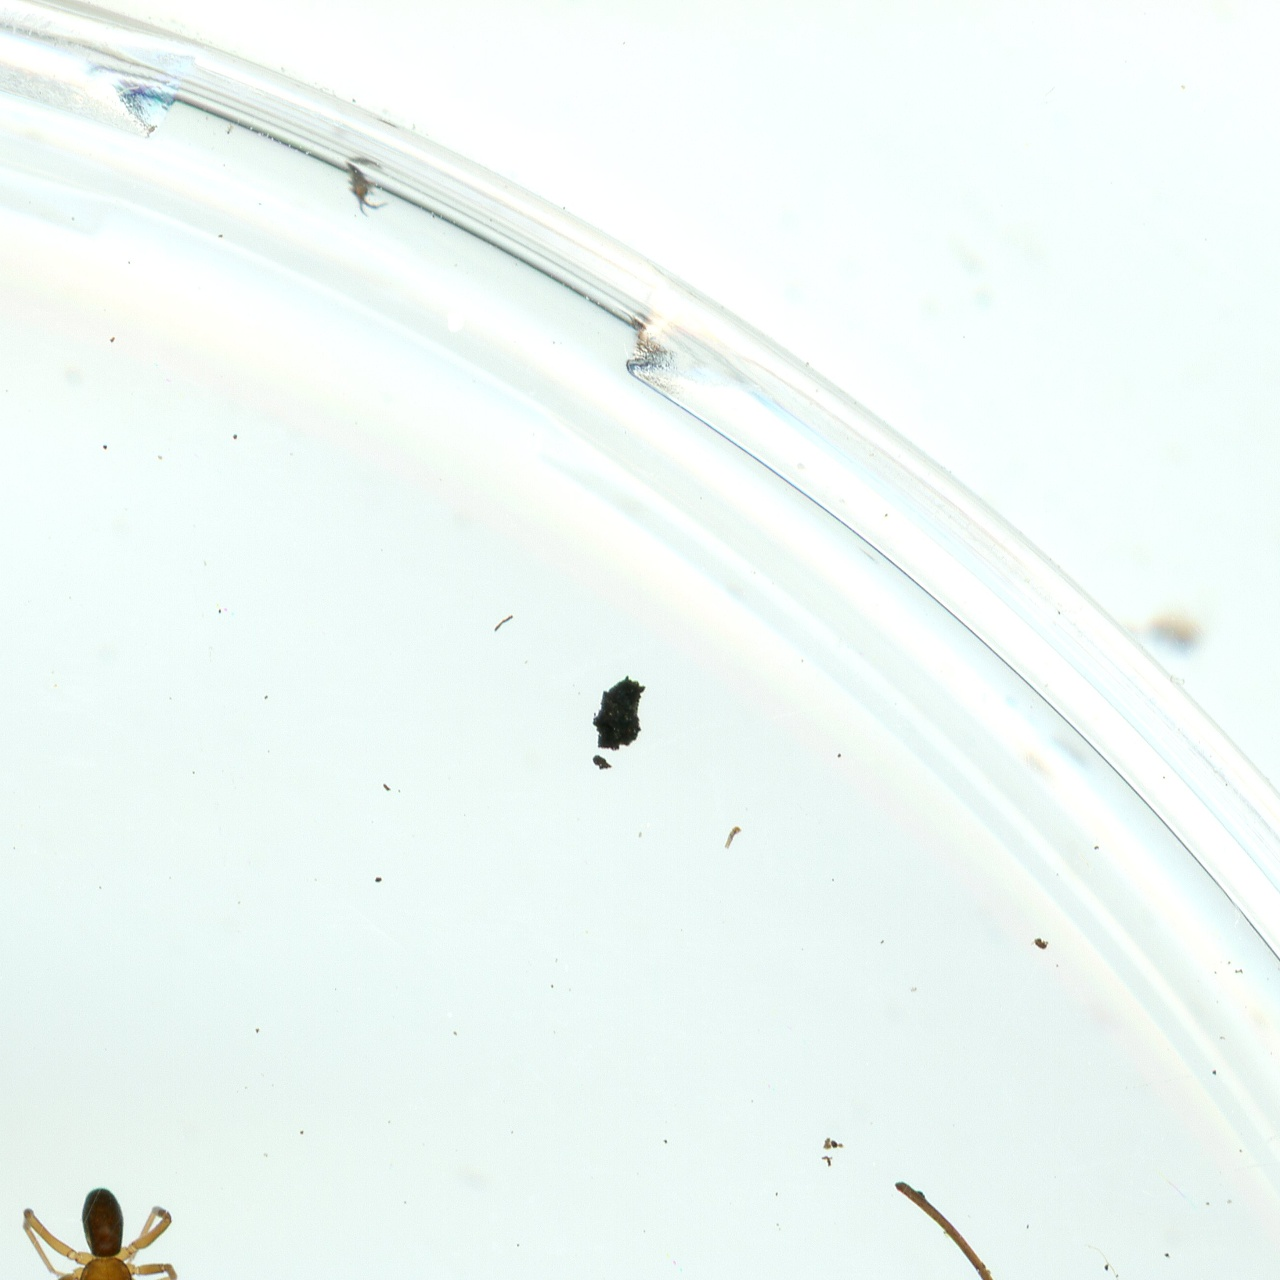arthropod: (0, 1188, 180, 1280)
